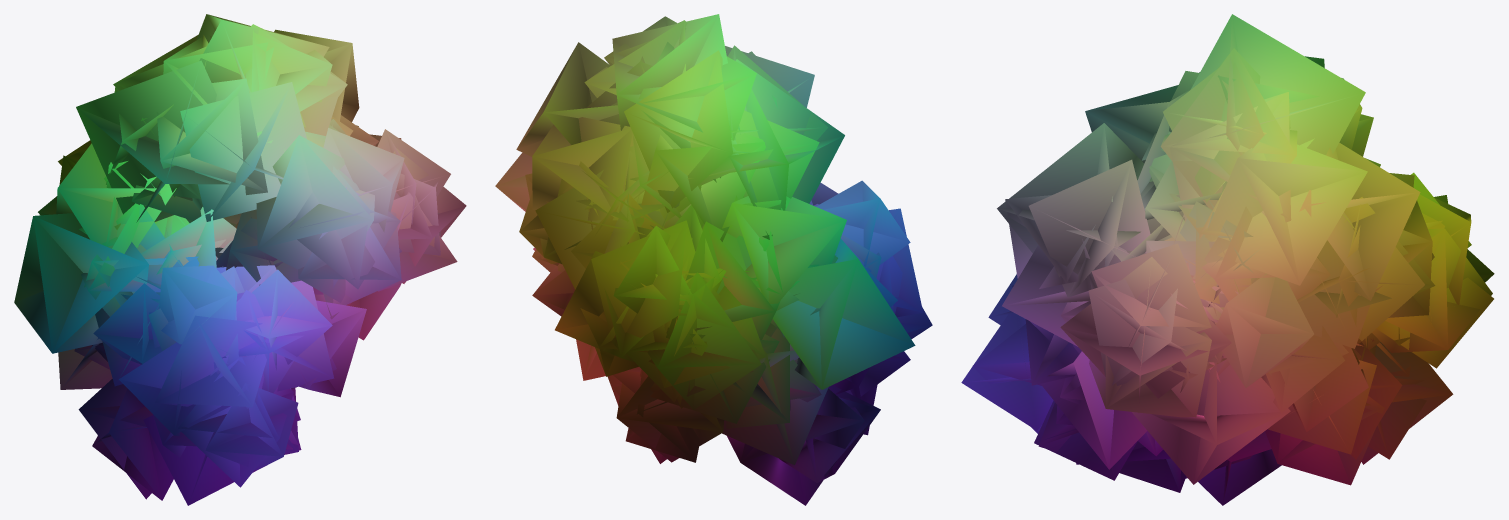
Rendered from Forest_plant_tree_078_a.FBX.
3 views of the same model, side by side, from view 1: azimuth 30°, elevation 25°; view 2: azimuth 150°, elevation 25°; view 3: azimuth 270°, elevation 25° (orthographic). The views are drawn at different scales.
Parts seen in each view (by area): view 1: attribwrangle50; view 2: attribwrangle50; view 3: attribwrangle50.
Part boxes in pixels (x1,y1,x2,y2): attribwrangle50: (14,14,466,505); attribwrangle50: (495,14,932,505); attribwrangle50: (961,14,1494,505).
Bounding box in the file's own units: 1482 × 1683 × 1514.
